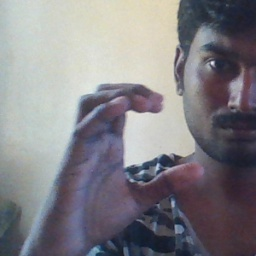C: (76, 77, 207, 211)
